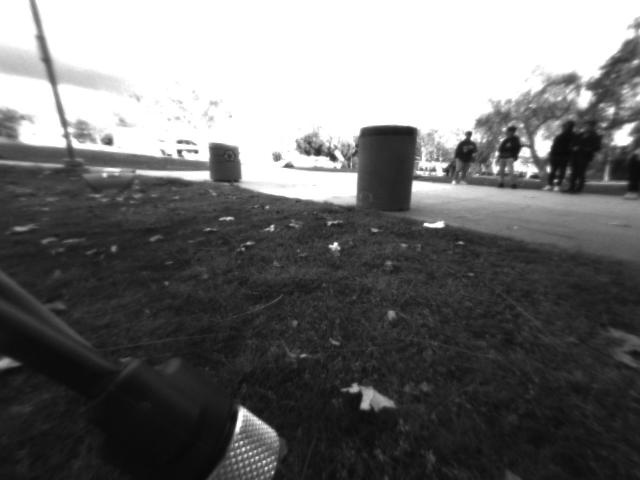trashcan: (348, 115, 419, 217), (204, 137, 246, 187)
